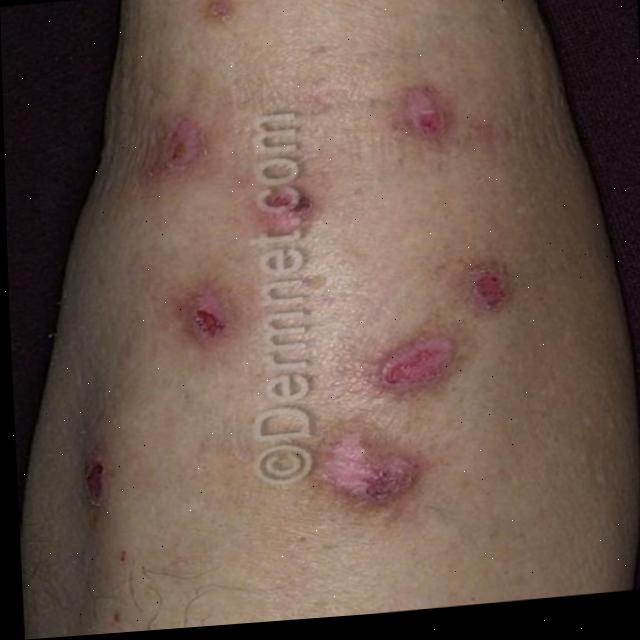Eczema: (154, 18, 518, 537), (73, 456, 113, 500)
